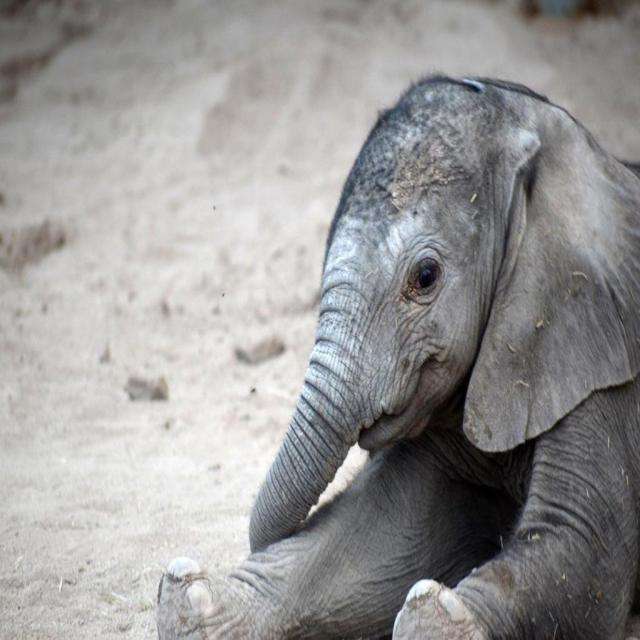Elephant: (156, 70, 638, 639)
